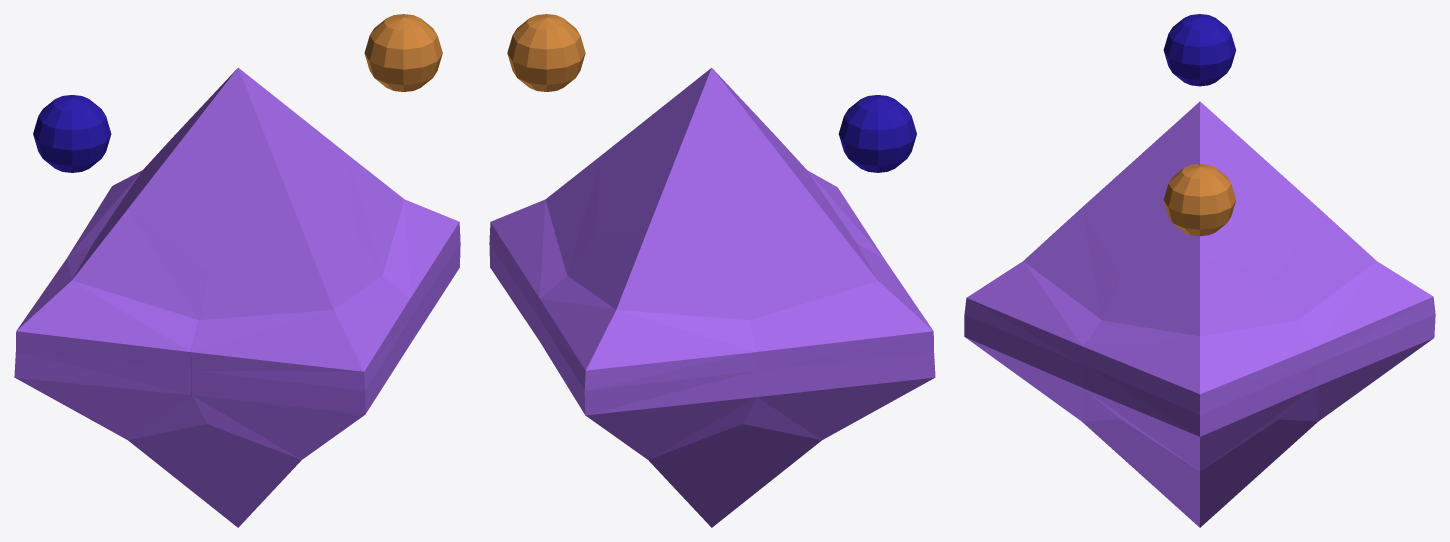
The model's file is trapEnemy.obj.
The picture shows the model from 3 angles, left to right: view 1: azimuth 30°, elevation 25°; view 2: azimuth 150°, elevation 25°; view 3: azimuth 270°, elevation 25°; orthographic projection. The views are drawn at different scales.
Parts seen in each view (by area): view 1: 立方体; view 2: 立方体; view 3: 立方体.
Part boxes in pixels (box(x1,y1,x2,y2)): 立方体: box(14, 14, 460, 527); 立方体: box(489, 14, 935, 527); 立方体: box(964, 14, 1435, 527).
Bounding box in the file's own units: 3.68 × 3.71 × 3.63.
1 material, 1 textured.
